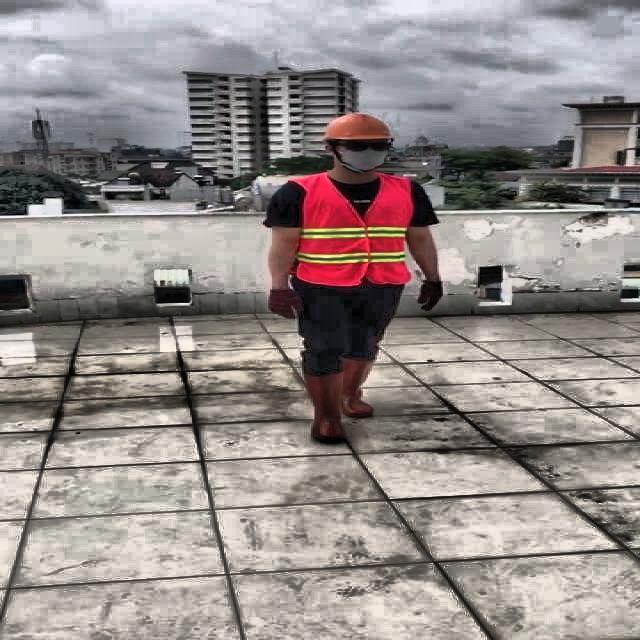safety_helmet: (320, 111, 392, 144)
safety_jacket: (293, 175, 409, 286)
